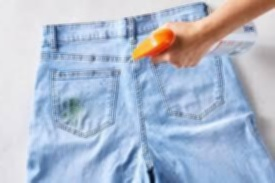earth: (61, 99, 84, 119)
